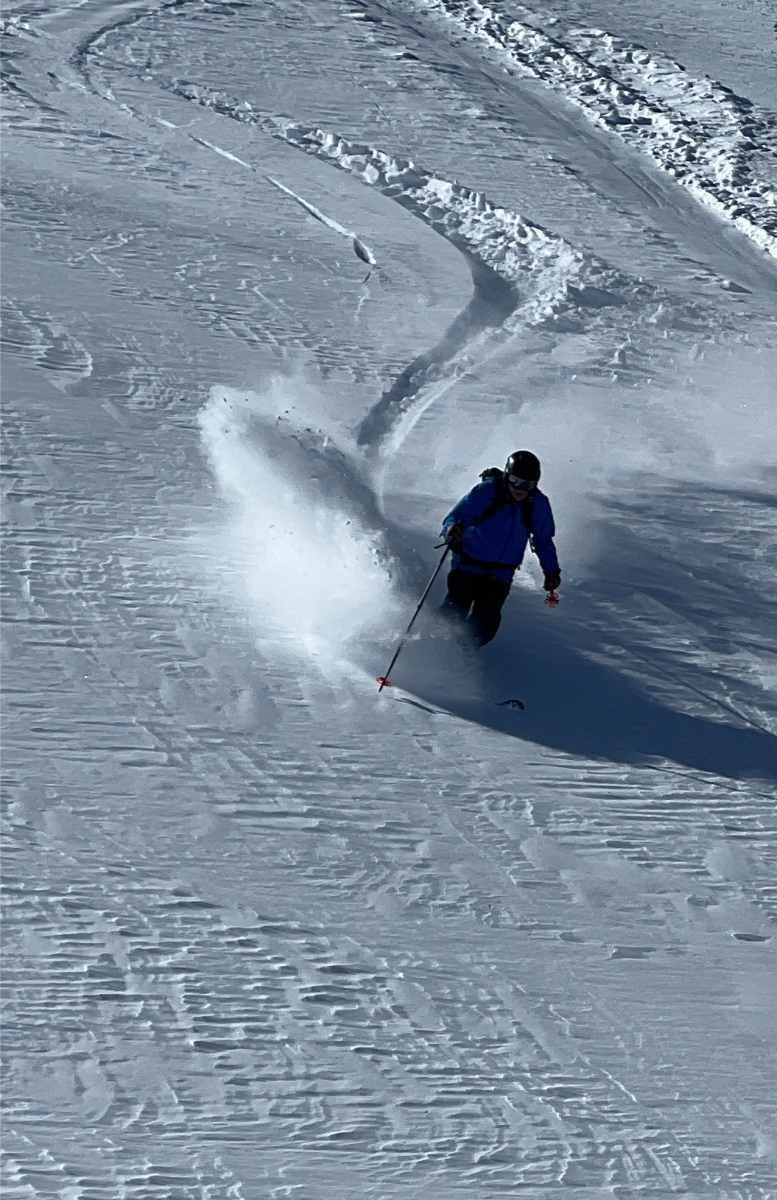skier: (348, 407, 600, 738)
